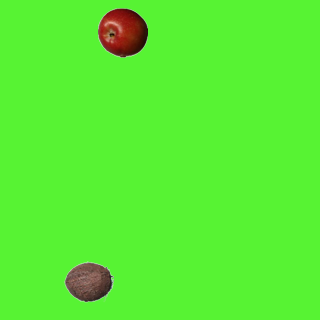Apple Braeburn: (97, 7, 147, 57)
Cocos: (63, 256, 113, 306)
